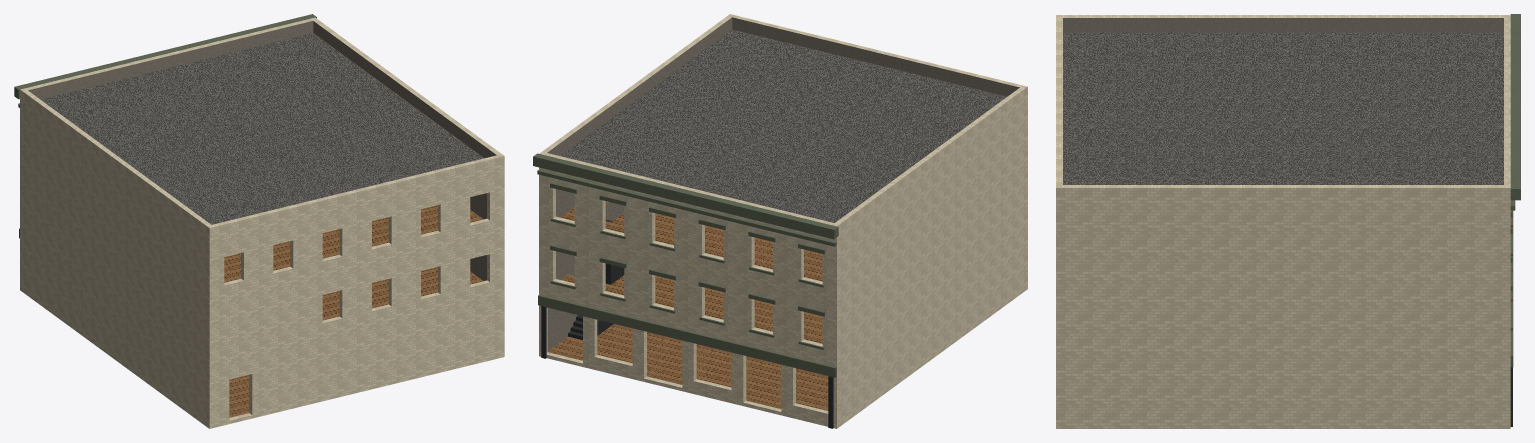
The model's file is main_street_cream_18m_3st.glb.
3 views of the same model, side by side, from view 1: azimuth 30°, elevation 25°; view 2: azimuth 150°, elevation 25°; view 3: azimuth 270°, elevation 25° (orthographic). The views are drawn at different scales.
Parts seen in each view (by area): view 1: main_street_cream_18m_3st; view 2: main_street_cream_18m_3st; view 3: main_street_cream_18m_3st.
Part boxes in pixels (x1,y1,x2,y2): main_street_cream_18m_3st: [14, 14, 504, 428]; main_street_cream_18m_3st: [533, 14, 1027, 428]; main_street_cream_18m_3st: [1056, 14, 1520, 428].
Size of the model in its own units: 18.2 by 11.7 by 20.45.
6 materials, 6 textured.
